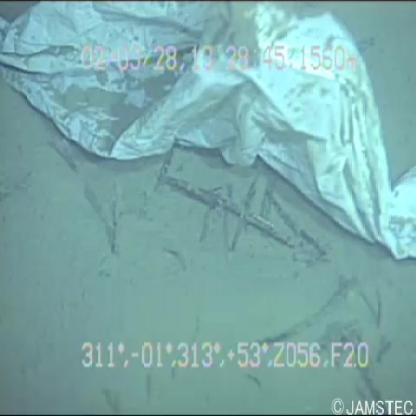Rác: (1, 1, 415, 281)
